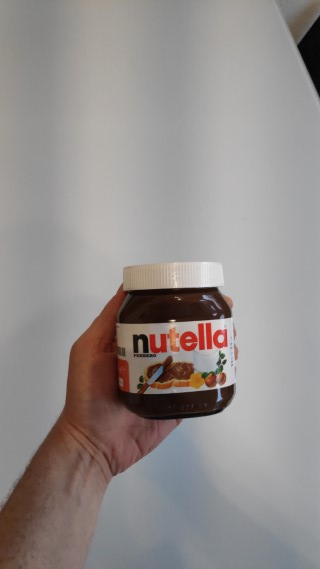nutella: (113, 259, 239, 421)
